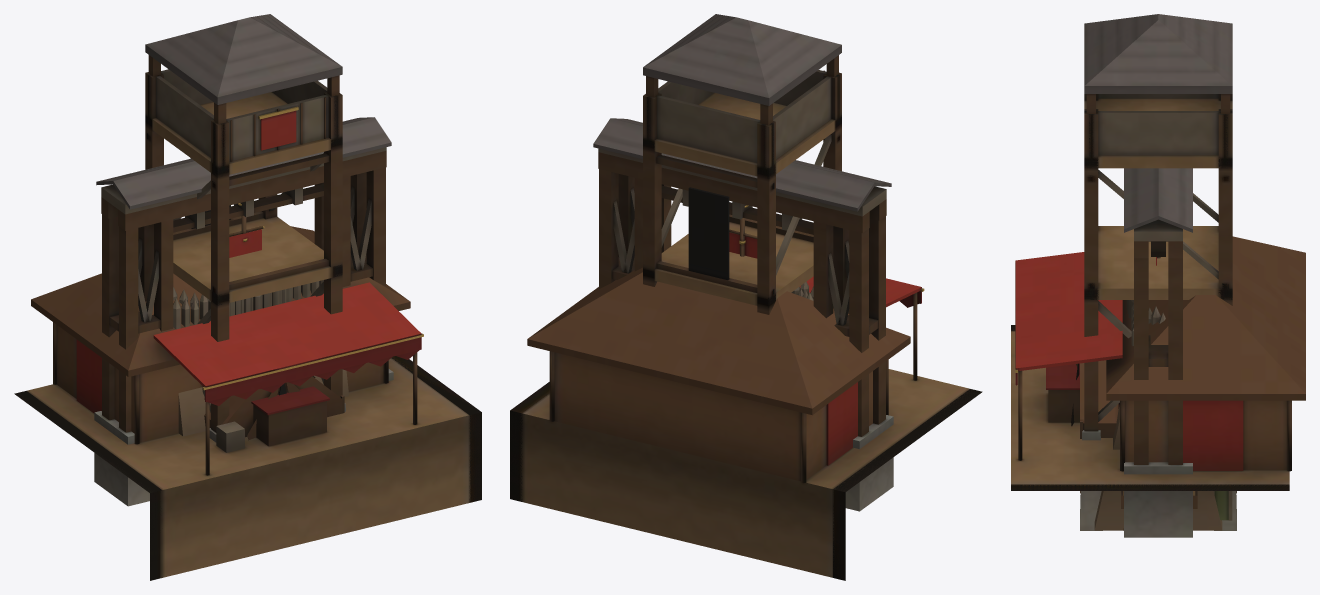
File: remoria.glb
3 renders of one model, left to right at view 1: azimuth 30°, elevation 25°; view 2: azimuth 150°, elevation 25°; view 3: azimuth 270°, elevation 25°, orthographic. The views are drawn at different scales.
Parts seen in each view (by area): view 1: tent_command_LOD0, gate_tower_LOD0, road_arch_LOD0, palisade_run_LOD0, tent_legion_LOD0, standard_wolf_LOD0, palisade_corner_LOD0; view 2: tent_command_LOD0, gate_tower_LOD0, road_arch_LOD0, standard_wolf_LOD0; view 3: tent_command_LOD0, gate_tower_LOD0, road_arch_LOD0, palisade_run_LOD0, tent_legion_LOD0, tribunal_LOD0.
Part boxes in pixels (<box>): tent_command_LOD0: <box>14,226,481,580</box>; gate_tower_LOD0: <box>145,14,345,442</box>; road_arch_LOD0: <box>94,117,393,506</box>; palisade_run_LOD0: <box>173,280,348,436</box>; tent_legion_LOD0: <box>204,376,344,440</box>; standard_wolf_LOD0: <box>229,203,264,257</box>; palisade_corner_LOD0: <box>173,287,292,316</box>; tent_command_LOD0: <box>510,267,982,580</box>; gate_tower_LOD0: <box>643,14,841,314</box>; road_arch_LOD0: <box>593,118,893,511</box>; standard_wolf_LOD0: <box>729,205,757,258</box>; tent_command_LOD0: <box>1011,236,1305,490</box>; gate_tower_LOD0: <box>1080,14,1236,530</box>; road_arch_LOD0: <box>1124,168,1192,537</box>; palisade_run_LOD0: <box>1094,300,1222,530</box>; tent_legion_LOD0: <box>1071,360,1236,493</box>; tribunal_LOD0: <box>1211,491,1232,521</box>.
Size of what is drawn, in the model's own units: 8 by 10.8 by 6.
Materials: 2 (2 with a texture image).
